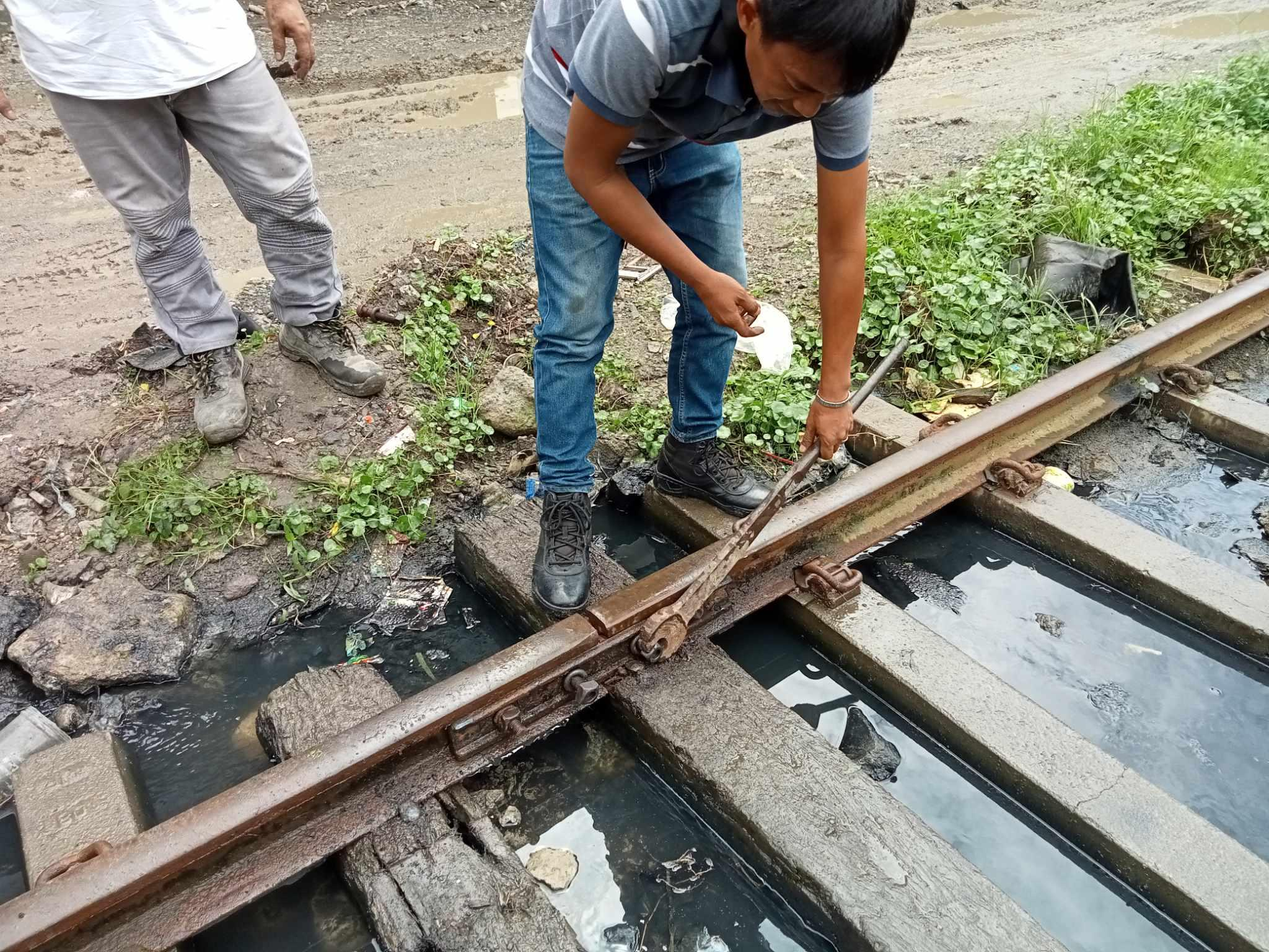railway-gap: (560, 584, 629, 657)
